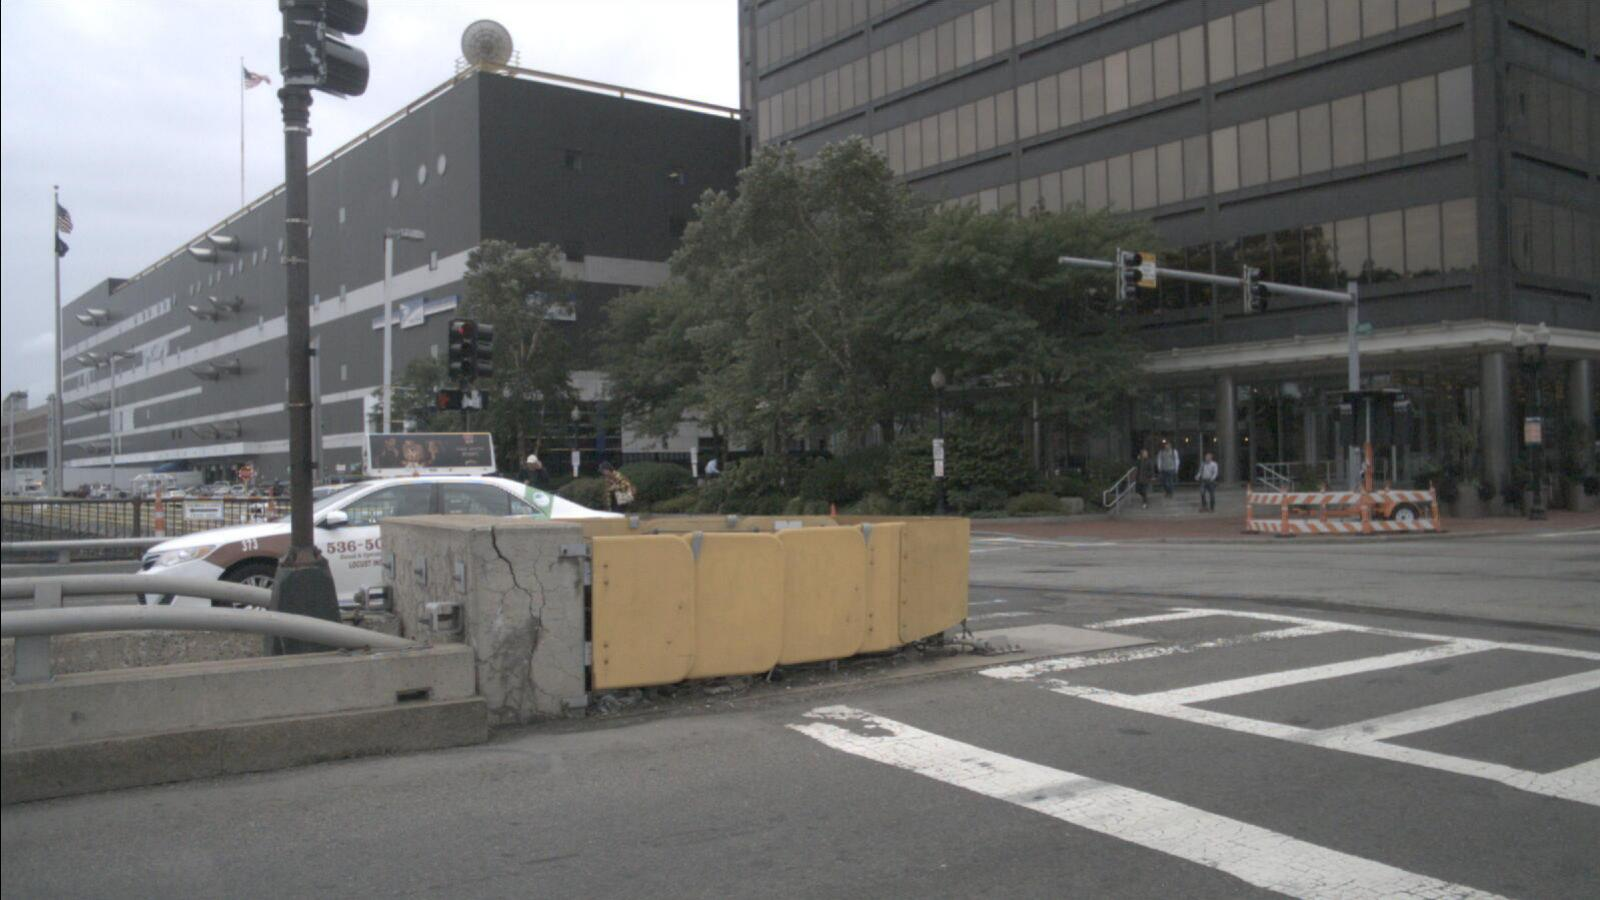human.pedestrian.adult-pedestrian.moving: (597, 461, 636, 541), (516, 454, 552, 541), (1155, 440, 1180, 501), (1194, 451, 1218, 514), (1133, 449, 1154, 511), (704, 455, 721, 503)
